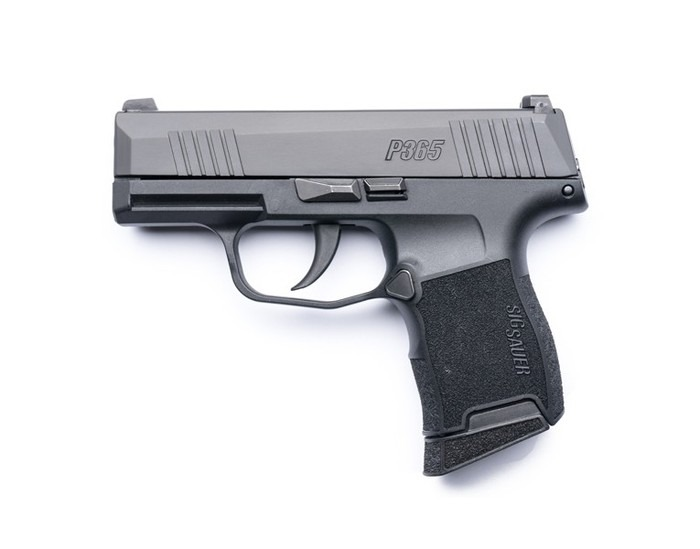gun: (106, 89, 598, 480)
